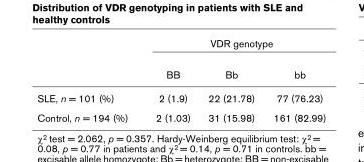table: (36, 36, 325, 123)
table column: (36, 36, 141, 123), (198, 36, 263, 123), (263, 36, 325, 123), (141, 36, 198, 123)
table column header: (36, 36, 325, 85)
table row: (36, 58, 325, 85), (36, 36, 325, 58), (36, 85, 325, 107), (36, 107, 325, 123)
table spanning cell: (141, 36, 325, 58)
